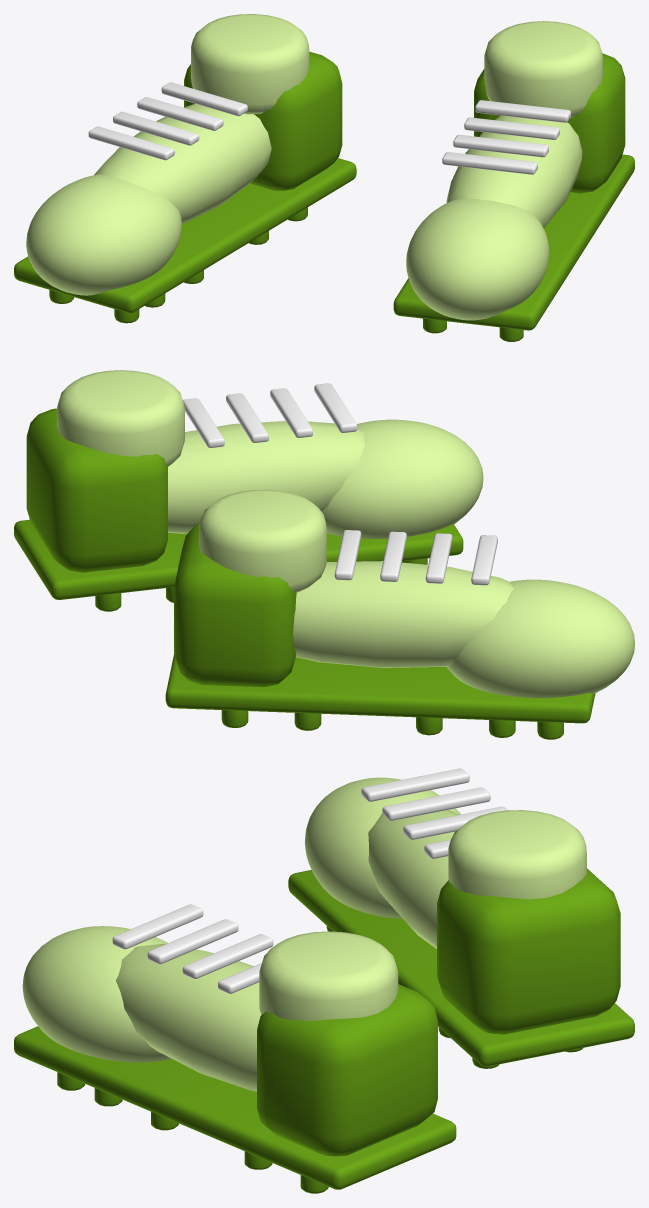
Rendered from reward-boots-volt.glb.
3 renders of one model, top to bottom at view 1: azimuth 30°, elevation 25°; view 2: azimuth 150°, elevation 25°; view 3: azimuth 270°, elevation 25°, orthographic. The views are drawn at different scales.
Visible parts, largest first — view 1: toe, toe.001, sole, upper, collar, collar.001, heel, sole.001, upper.001, heel.001, lace.006, lace.004 (+6 smaller); view 2: upper, heel.001, toe, sole, heel, toe.001, upper.001, collar, collar.001, sole.001, lace.007, lace.005 (+6 smaller); view 3: heel, heel.001, sole.001, upper.001, toe.001, sole, collar.001, collar, toe, upper, lace.003, lace.002 (+5 smaller).
Part boxes in pixels (x1,y1,x2,y2): toe: (26, 174, 181, 295); toe.001: (406, 199, 549, 320); sole: (14, 158, 356, 312); upper: (94, 103, 271, 223); collar: (191, 14, 309, 114); collar.001: (484, 21, 602, 118); heel: (184, 51, 342, 190); sole.001: (393, 154, 634, 330); upper.001: (446, 115, 582, 228); heel.001: (474, 53, 625, 193); lace.006: (453, 134, 548, 157); lace.004: (475, 100, 570, 122); upper: (293, 561, 513, 667); heel.001: (26, 408, 167, 572); toe: (446, 579, 634, 697); sole: (165, 654, 595, 723); heel: (174, 523, 296, 687); toe.001: (322, 419, 483, 538); upper.001: (168, 421, 365, 533); collar: (199, 489, 326, 592); collar.001: (57, 370, 184, 466); sole.001: (14, 519, 463, 599); lace.007: (314, 383, 357, 432); lace.005: (226, 393, 268, 442); heel: (437, 868, 620, 1034); heel.001: (257, 984, 437, 1156); sole.001: (14, 1026, 456, 1189); upper.001: (116, 943, 261, 1091); toe.001: (22, 926, 171, 1062); sole: (288, 870, 634, 1066); collar.001: (259, 931, 398, 1020); collar: (448, 810, 586, 899); toe: (304, 777, 460, 918); upper: (368, 802, 458, 948); lace.003: (361, 768, 469, 801); lace.002: (382, 787, 490, 820).
Size of the model in its own units: 3.84 by 1.15 by 3.03.
